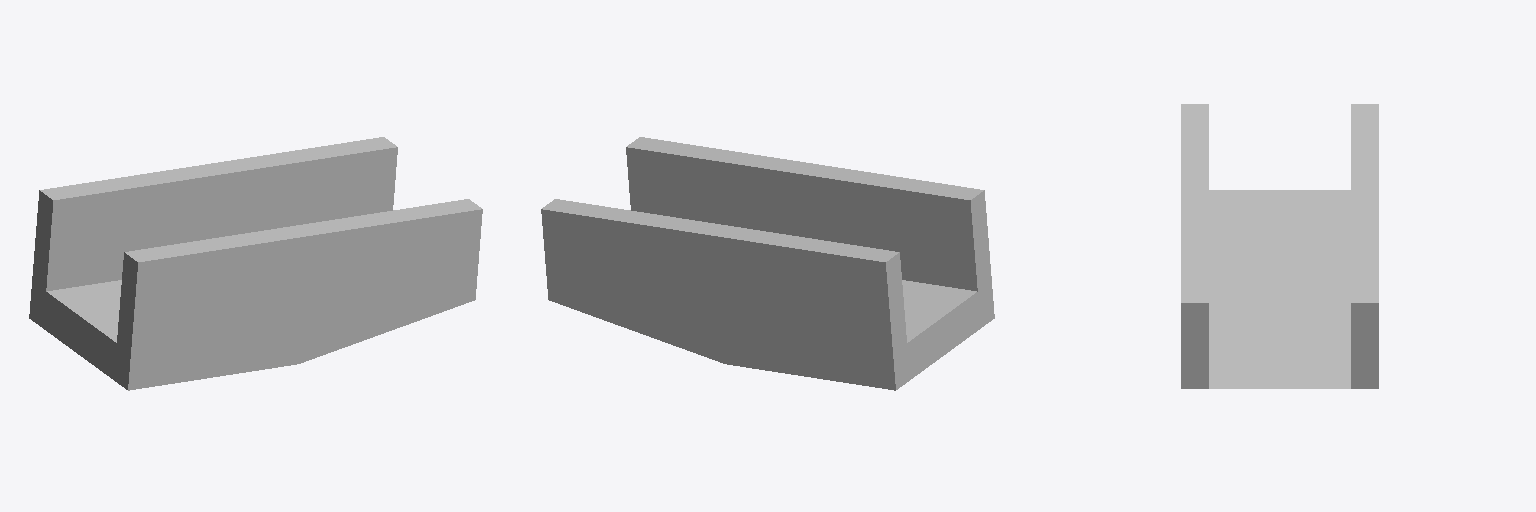
Rendered from 5 Deg.obj.
The picture shows the model from 3 angles: view 1: azimuth 30°, elevation 25°; view 2: azimuth 150°, elevation 25°; view 3: azimuth 270°, elevation 25°; orthographic projection.
Parts seen in each view (by area): view 1: Cube; view 2: Cube; view 3: Cube.
Part boxes in pixels (x1,y1,x2,y2): Cube: (29, 137, 482, 390); Cube: (541, 137, 994, 390); Cube: (1181, 104, 1378, 388).
Size of the model in its own units: 4.14 by 1.57 by 2.